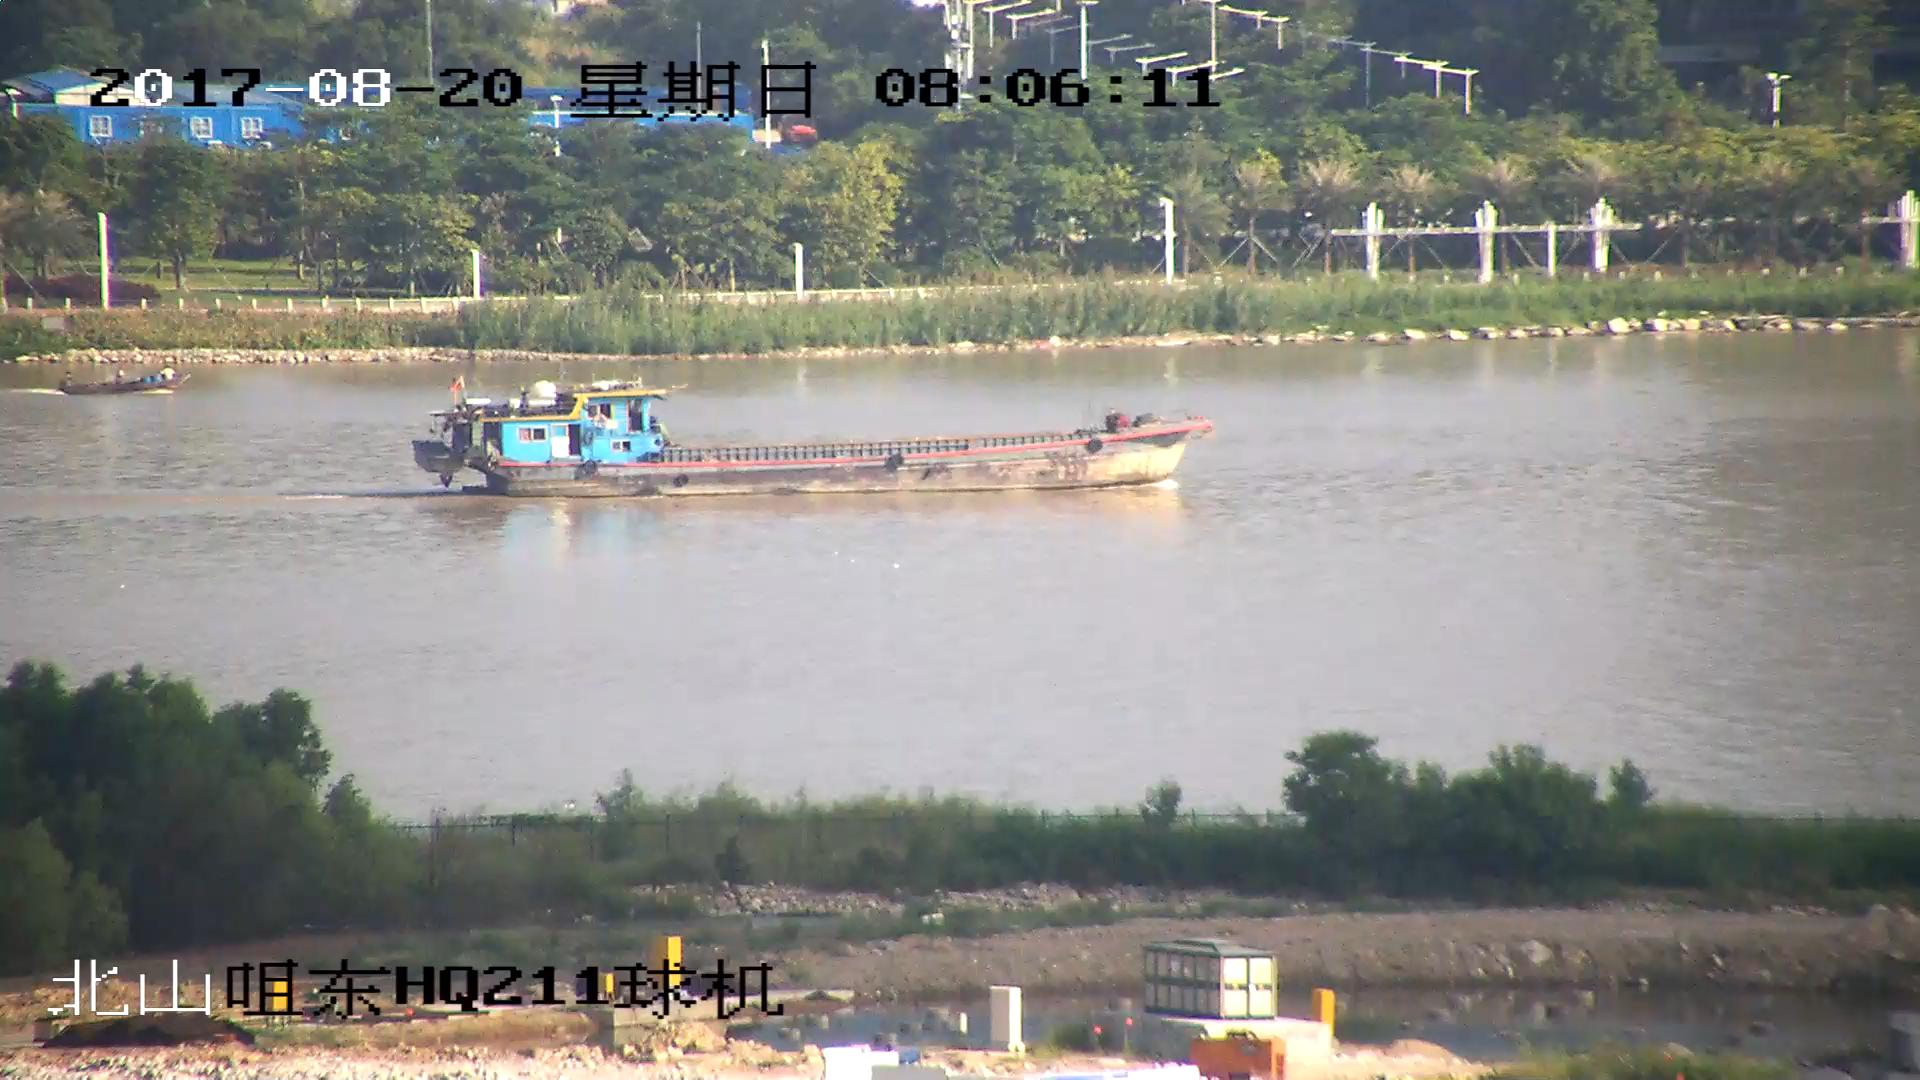fishing boat: (422, 382, 1216, 497), (53, 366, 188, 393)
